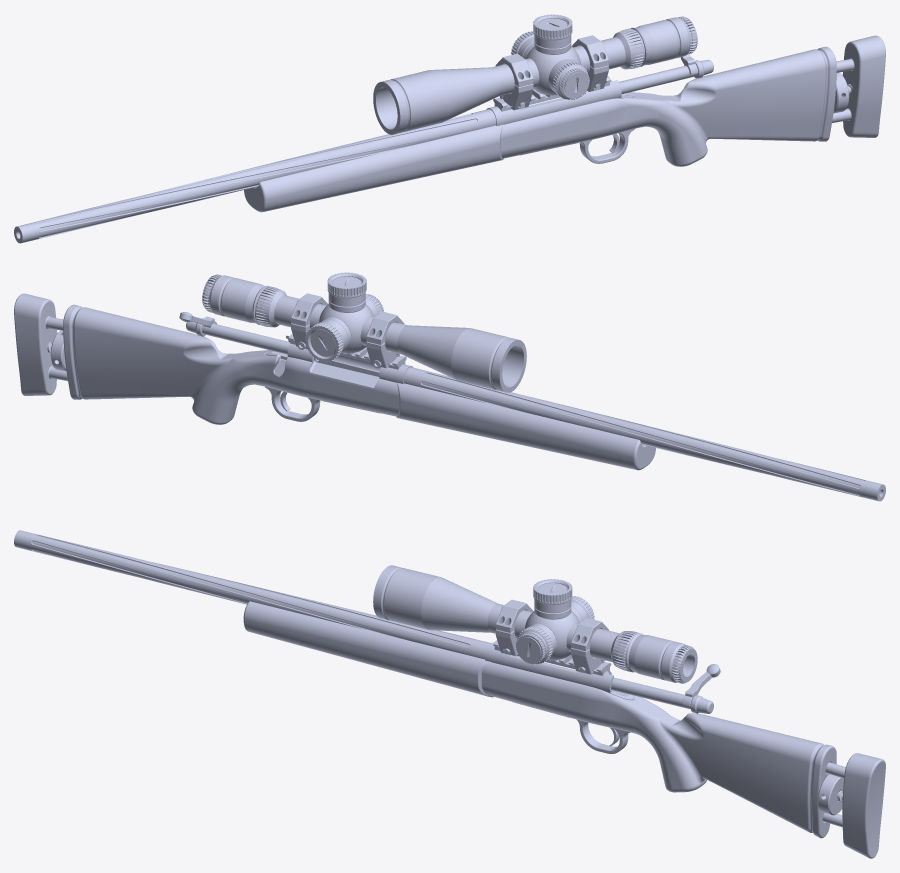
Rendered from M24_Assembly.glb.
3 views of the same model, one above another, from view 1: azimuth 30°, elevation 25°; view 2: azimuth 150°, elevation 25°; view 3: azimuth 330°, elevation 25° (orthographic).
Visible parts, largest first — view 1: M24 SWS Stock-1, Vortex Razor HD Gen III 6-36X56 Assembly-1/Vortex Razor HD G (×3), M24 26 Countour Twist Barrel-1, M24 SWS Buttpad-1, M24 Receiver-1, M24 Bolt Handle-1, M24 SWS Magazine Floorplate-1, Seekings 34MM 1.00 Assembly-1/Seekings 34MM Cap-1, Seekings 34MM 1.00 Assembly-2/Seekings 34MM Cap-1, Seekings 34MM 1.00 Assembly-1/Seekings 34MM 1.00 Body-1, M24 SWS Buttpad Wheel-1; view 2: M24 SWS Stock-1, Vortex Razor HD Gen III 6-36X56 Assembly-1/Vortex Razor HD G (×3), M24 26 Countour Twist Barrel-1, M24 SWS Buttpad-1, M24 Receiver-1, M24 Bolt Handle-1, M24 SWS Magazine Floorplate-1, Seekings 34MM 1.00 Assembly-1/Seekings 34MM Cap-1, Seekings 34MM 1.00 Assembly-2/Seekings 34MM Cap-1, Seekings 34MM 1.00 Assembly-1/Seekings 34MM 1.00 Body-1, M24 SWS Buttpad Wheel-1; view 3: M24 SWS Stock-1, Vortex Razor HD Gen III 6-36X56 Assembly-1/Vortex Razor HD G (×3), M24 26 Countour Twist Barrel-1, M24 SWS Buttpad-1, M24 Receiver-1, M24 Bolt Handle-1, M24 SWS Buttpad Wheel-1, M24 SWS Magazine Floorplate-1, Seekings 34MM 1.00 Assembly-1/Seekings 34MM Cap-1, Seekings 34MM 1.00 Assembly-2/Seekings 34MM Cap-1.
Part boxes in pixels (x1=…): M24 SWS Stock-1: x1=244, y1=46, x2=836, y2=212; Vortex Razor HD Gen III 6-36X56 Assembly-1/Vortex Razor HD G (×3): x1=373, y1=14, x2=697, y2=134; M24 26 Countour Twist Barrel-1: x1=14, y1=106, x2=503, y2=243; M24 SWS Buttpad-1: x1=832, y1=35, x2=885, y2=137; M24 Receiver-1: x1=493, y1=76, x2=633, y2=124; M24 Bolt Handle-1: x1=619, y1=54, x2=698, y2=94; M24 SWS Magazine Floorplate-1: x1=520, y1=128, x2=634, y2=163; Seekings 34MM 1.00 Assembly-1/Seekings 34MM Cap-1: x1=495, y1=53, x2=533, y2=86; Seekings 34MM 1.00 Assembly-2/Seekings 34MM Cap-1: x1=572, y1=35, x2=608, y2=68; Seekings 34MM 1.00 Assembly-1/Seekings 34MM 1.00 Body-1: x1=499, y1=77, x2=533, y2=110; M24 SWS Buttpad Wheel-1: x1=833, y1=72, x2=849, y2=113; M24 SWS Stock-1: x1=63, y1=304, x2=655, y2=470; Vortex Razor HD Gen III 6-36X56 Assembly-1/Vortex Razor HD G (×3): x1=202, y1=272, x2=526, y2=392; M24 26 Countour Twist Barrel-1: x1=396, y1=364, x2=885, y2=501; M24 SWS Buttpad-1: x1=14, y1=293, x2=67, y2=395; M24 Receiver-1: x1=266, y1=334, x2=406, y2=382; M24 Bolt Handle-1: x1=179, y1=312, x2=319, y2=361; M24 SWS Magazine Floorplate-1: x1=265, y1=387, x2=379, y2=421; Seekings 34MM 1.00 Assembly-1/Seekings 34MM Cap-1: x1=366, y1=311, x2=404, y2=344; Seekings 34MM 1.00 Assembly-2/Seekings 34MM Cap-1: x1=291, y1=293, x2=327, y2=326; Seekings 34MM 1.00 Assembly-1/Seekings 34MM 1.00 Body-1: x1=366, y1=335, x2=400, y2=368; M24 SWS Buttpad Wheel-1: x1=50, y1=330, x2=66, y2=371; M24 SWS Stock-1: x1=243, y1=601, x2=836, y2=838; Vortex Razor HD Gen III 6-36X56 Assembly-1/Vortex Razor HD G (×3): x1=373, y1=565, x2=697, y2=683; M24 26 Countour Twist Barrel-1: x1=14, y1=530, x2=494, y2=662; M24 SWS Buttpad-1: x1=822, y1=753, x2=885, y2=858; M24 Receiver-1: x1=492, y1=640, x2=633, y2=699; M24 Bolt Handle-1: x1=611, y1=664, x2=720, y2=709; M24 SWS Buttpad Wheel-1: x1=817, y1=774, x2=843, y2=815; M24 SWS Magazine Floorplate-1: x1=513, y1=702, x2=630, y2=753; Seekings 34MM 1.00 Assembly-1/Seekings 34MM Cap-1: x1=495, y1=599, x2=533, y2=632; Seekings 34MM 1.00 Assembly-2/Seekings 34MM Cap-1: x1=571, y1=618, x2=608, y2=651.
Size of the model in its own units: 0.1831 by 0.0391 by 0.0179.
